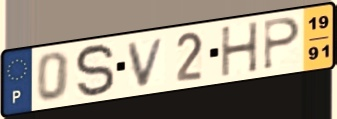0: (34, 50, 71, 104)
2: (175, 30, 205, 83)
H: (219, 19, 261, 79)
P: (262, 15, 303, 72)
S: (73, 42, 117, 101)
V: (125, 35, 168, 90)
